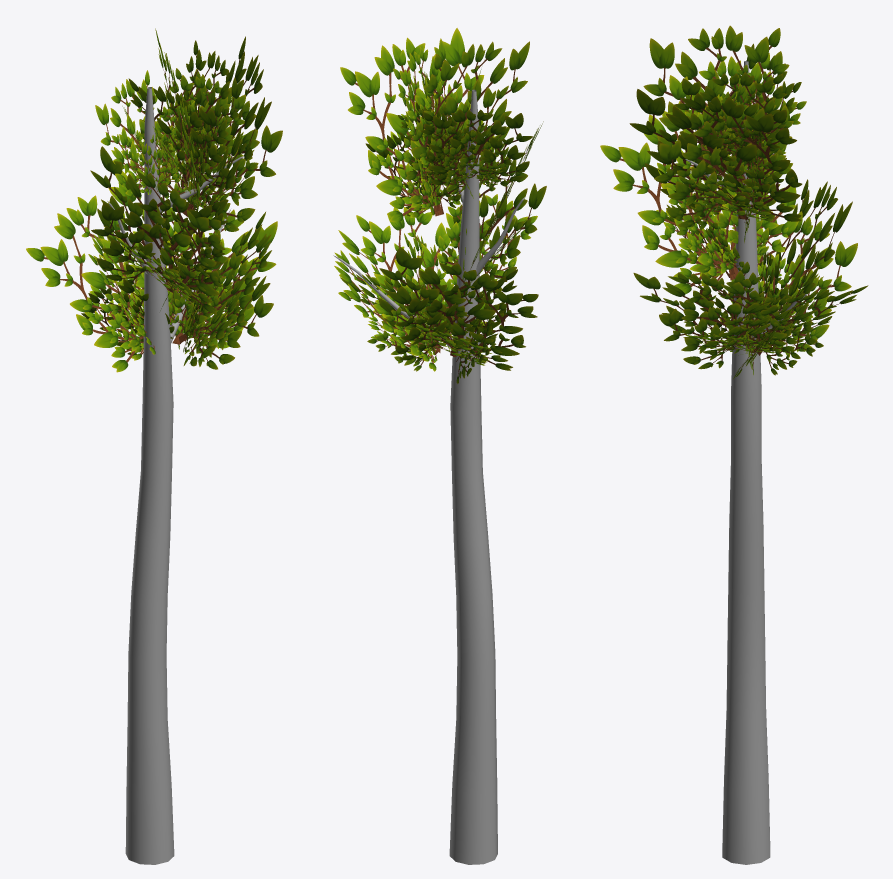
File: Growing_Phase1.fbx
The picture shows the model from 3 angles, left to right: view 1: azimuth 30°, elevation 25°; view 2: azimuth 150°, elevation 25°; view 3: azimuth 270°, elevation 25°; orthographic projection. The views are drawn at different scales.
Parts seen in each view (by area): view 1: Leaves_Phase1, Tree_Phase1; view 2: Leaves_Phase1, Tree_Phase1; view 3: Leaves_Phase1, Tree_Phase1.
Boxes of the visible parts, x1,y1,x2,y2 form: Leaves_Phase1: [26, 28, 282, 372]; Tree_Phase1: [107, 87, 244, 864]; Leaves_Phase1: [334, 28, 546, 383]; Tree_Phase1: [333, 89, 525, 864]; Leaves_Phase1: [600, 25, 868, 379]; Tree_Phase1: [685, 60, 808, 864].
Size of the model in its own units: 0.7141 by 2.26 by 0.6992.
